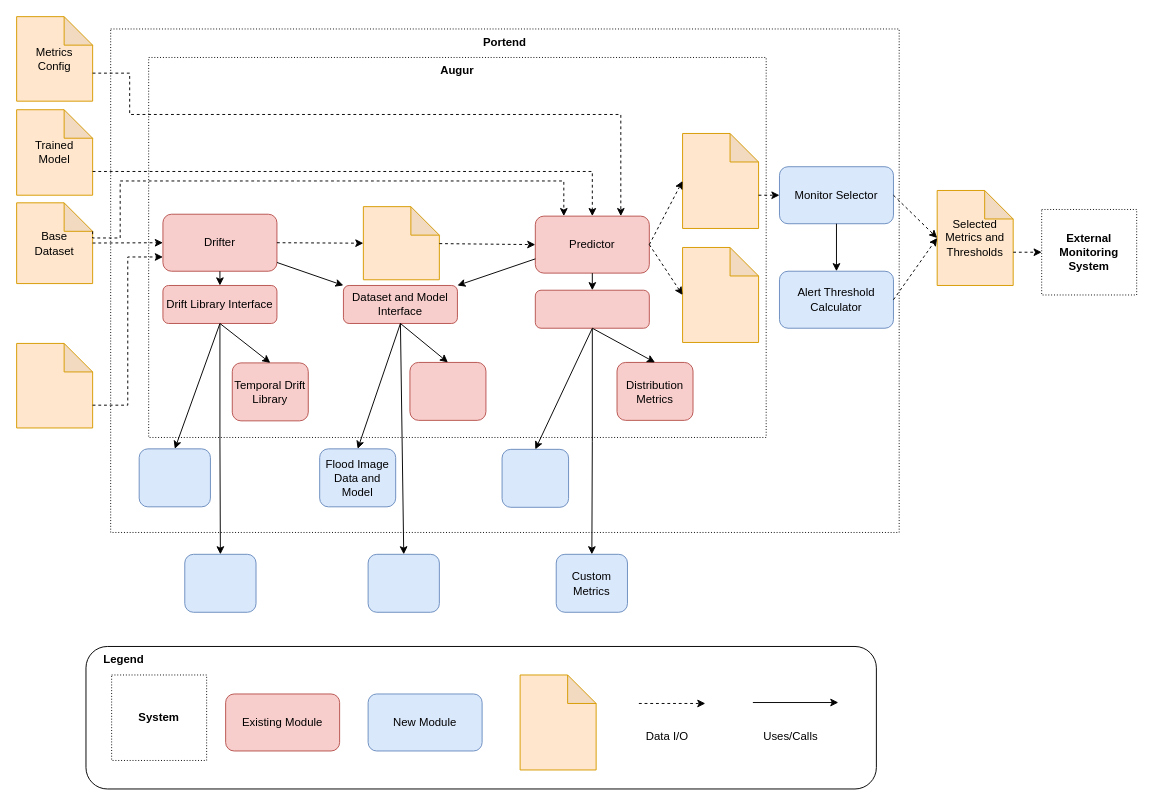
This 1153x806 diagram has some shape labels left out. Each missing label, with the centre of its shape:
Custom Datasets and Models: point 403,582
Custom Drift Libraries: point 220,582
Data File: point 557,722
Drift Scenario: point 54,385
Drifted Dataset: point 400,243
Iceberg Data and Model: point 447,390
Image Drift Library: point 174,477
Image Metrics?: point 535,477
Metrics Interface: point 591,308
Prediction Metrics: point 720,180
Prediction Results: point 720,294
